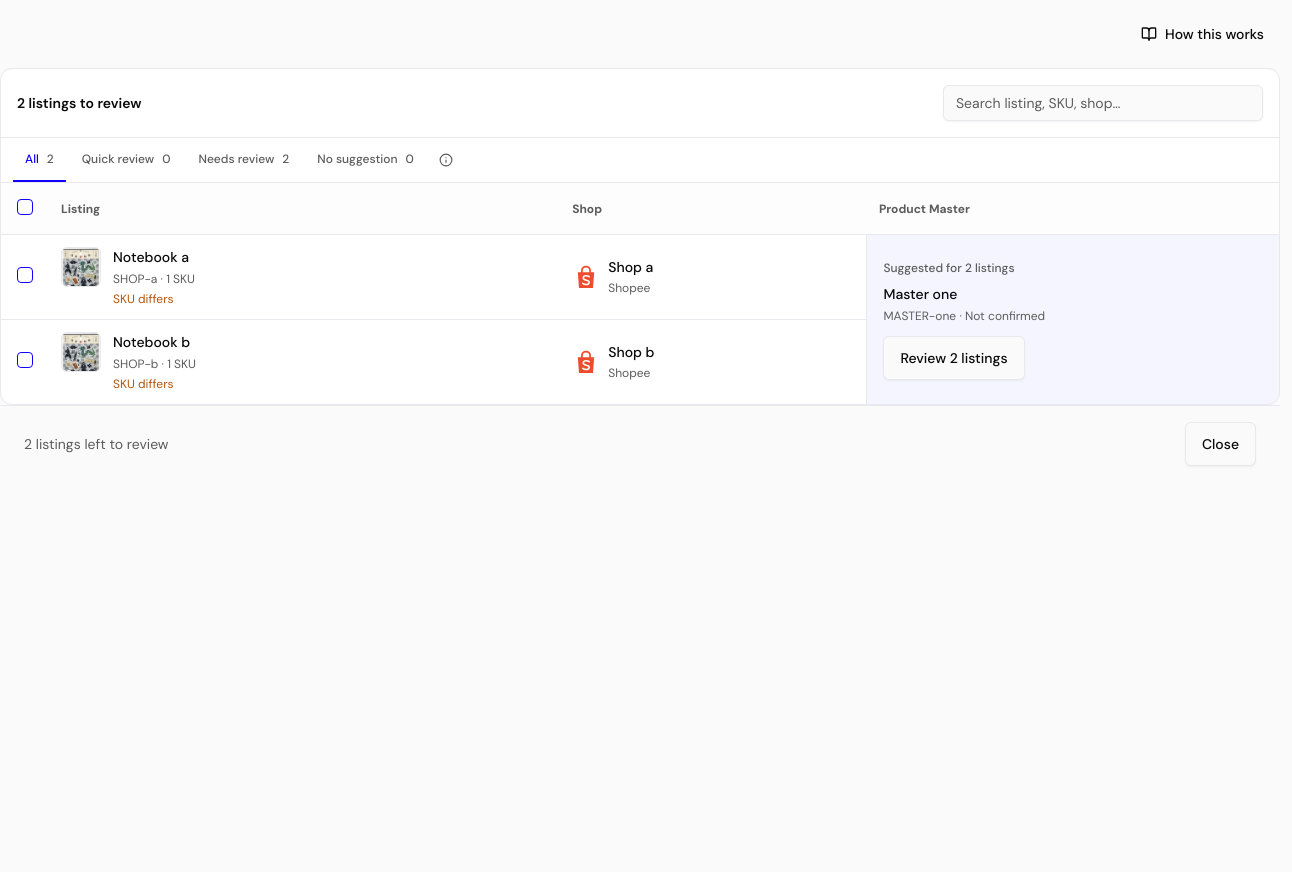
it: Shared suggested Master groups › keeps only Create and Link actions and restores focus after returning from creation
Step 1. Click the checkbox named "Select visible shop listings" → coordinates (25, 207), box [17,199,33,215]
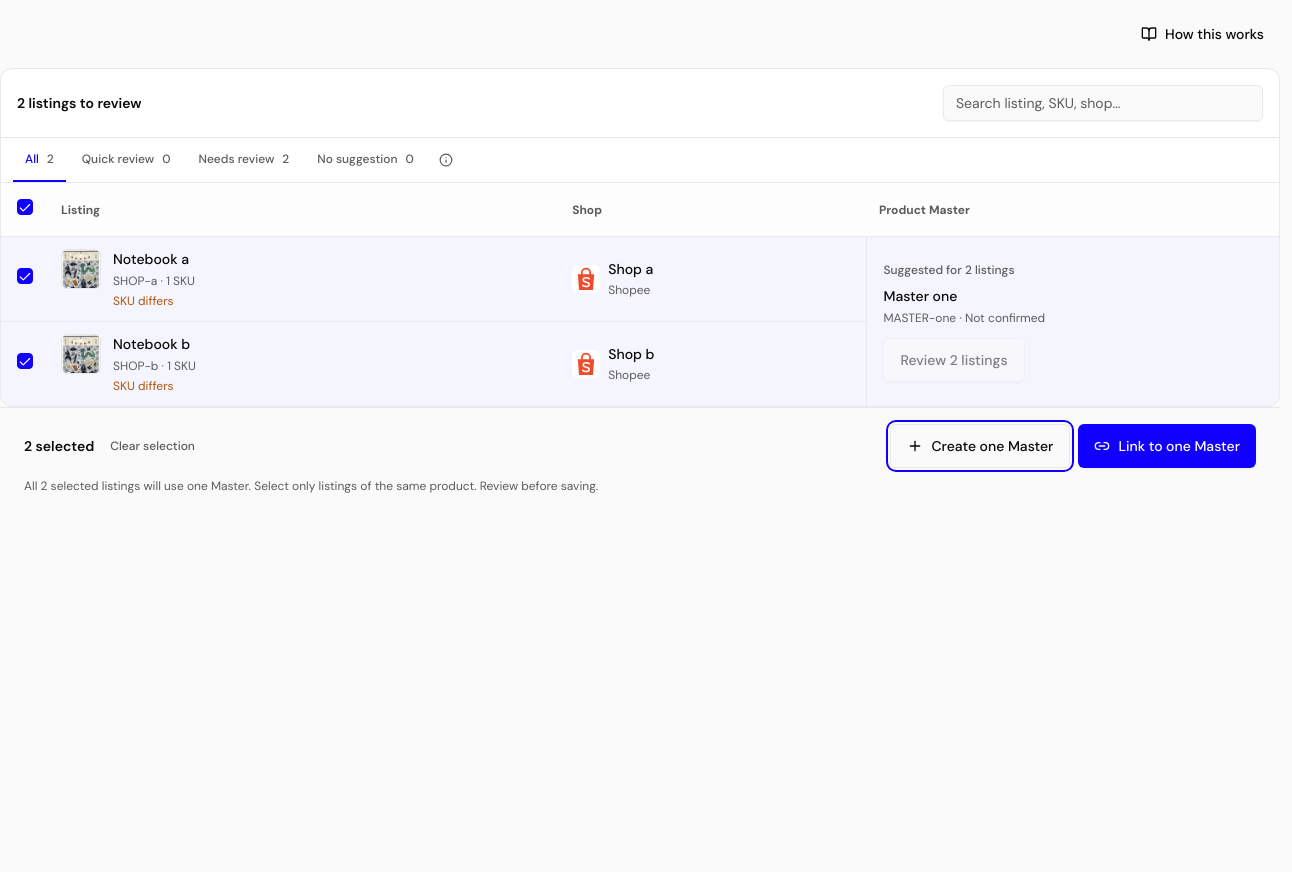
Now the buttons read "Clear selection", "Create one Master", "Link to one Master", in this order
Step 2. Click the button "Create one Master" → coordinates (980, 446), box [890,424,1070,468]
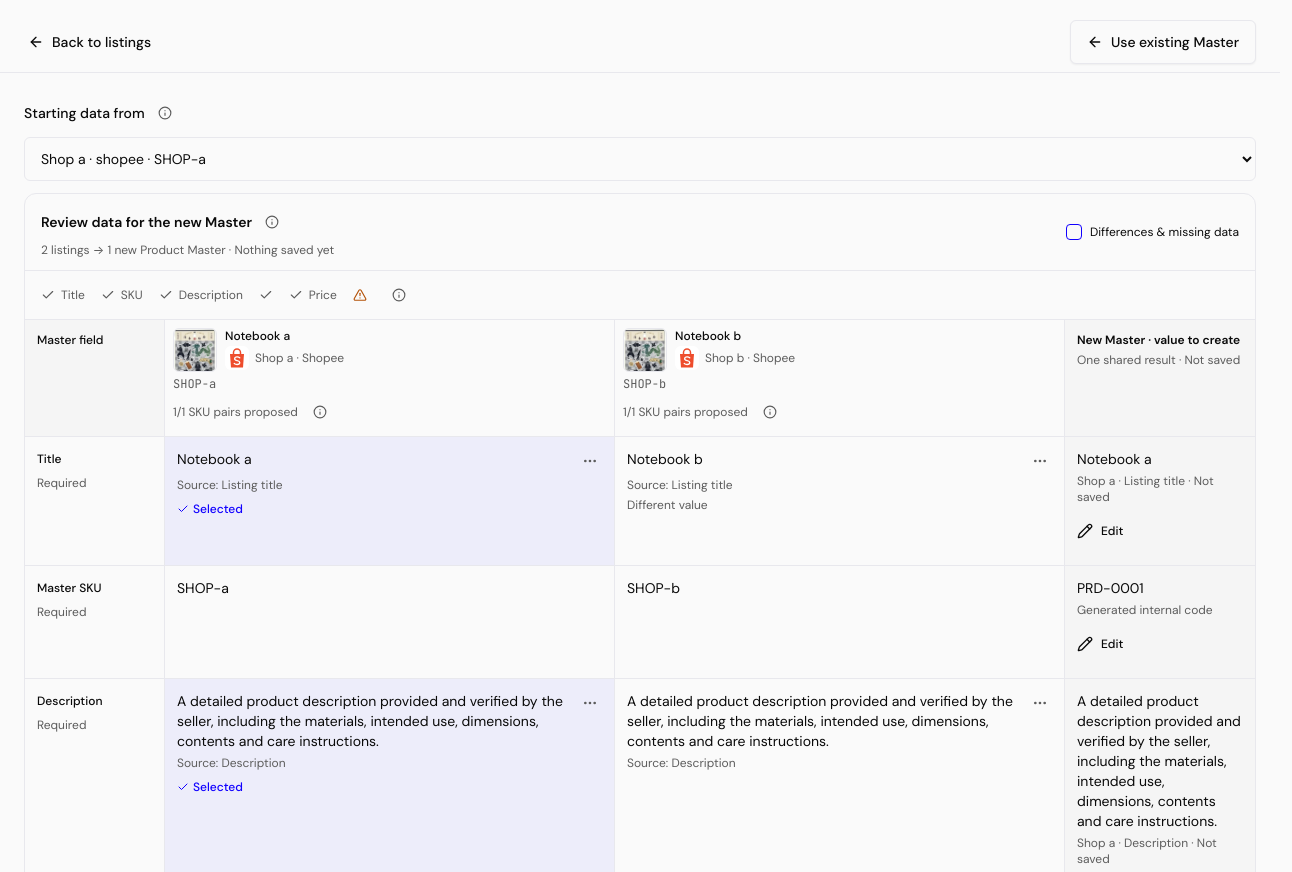
Step 3. Click the button "Back to listings" → coordinates (90, 42), box [12,20,167,64]
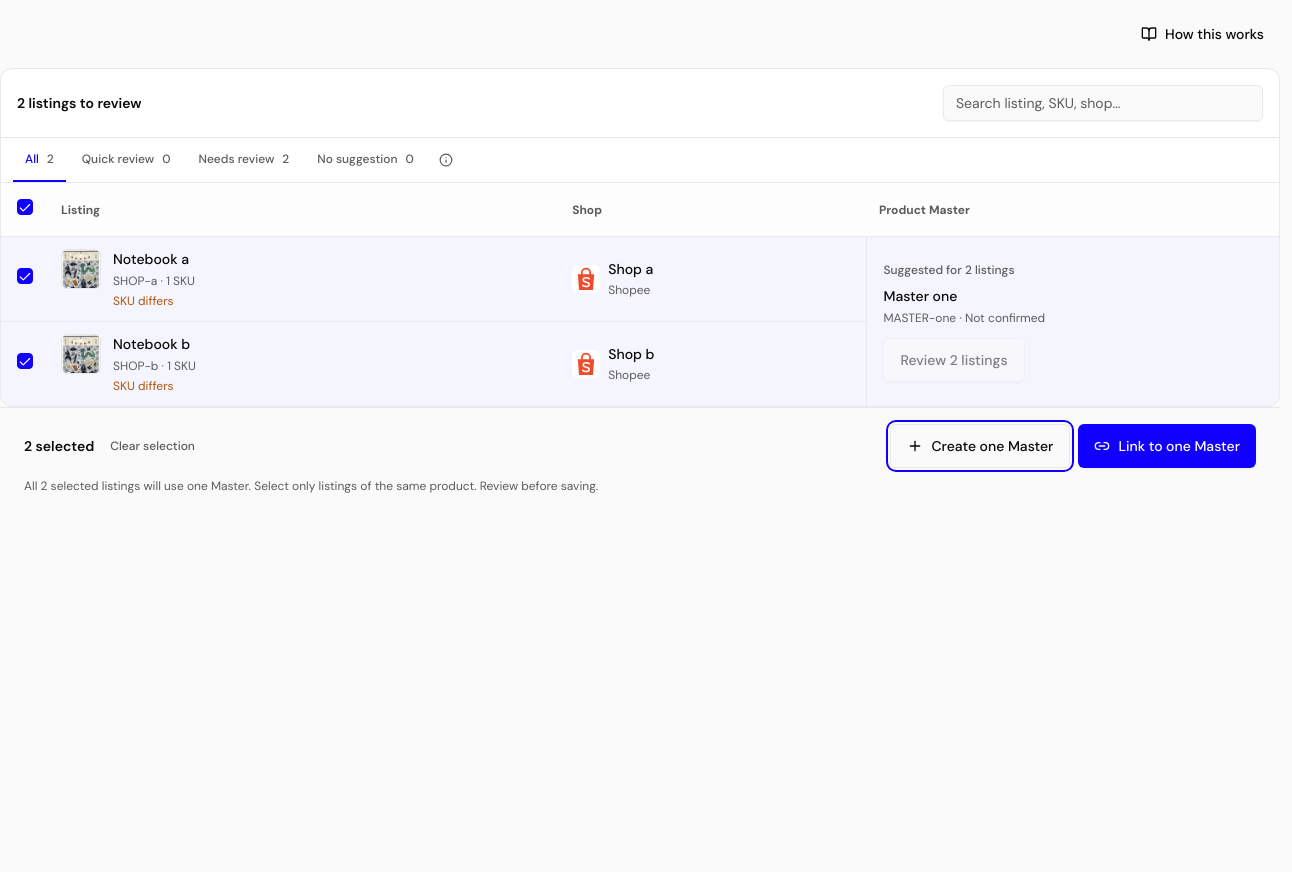
Now the text "2 selected" is shown, box [24,436,94,456]
